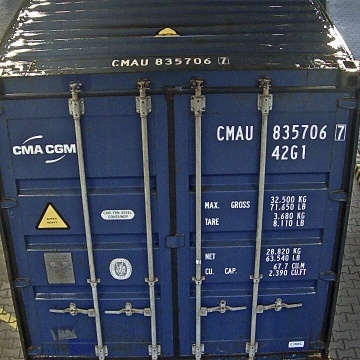serial_id: (217, 124, 346, 140)
